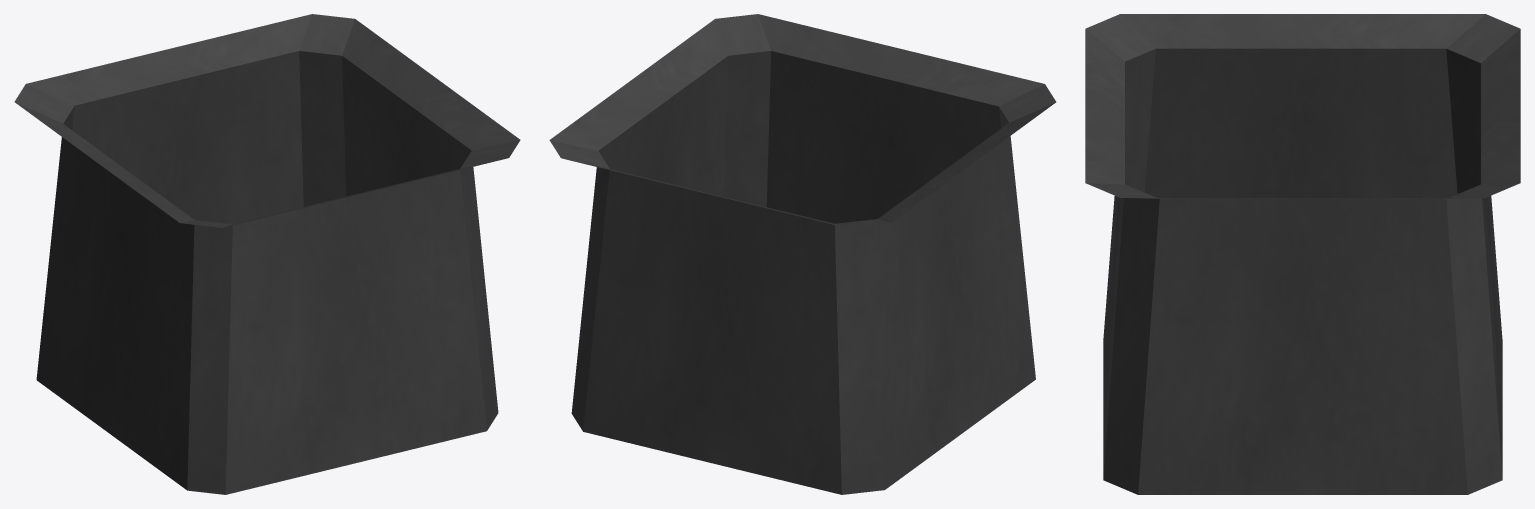
Rendered from bobble_accessory_hat.obj.
3 views of the same model, side by side, from view 1: azimuth 30°, elevation 25°; view 2: azimuth 150°, elevation 25°; view 3: azimuth 270°, elevation 25° (orthographic). The views are drawn at different scales.
Visible parts, largest first — view 1: Cube_Cube.001; view 2: Cube_Cube.001; view 3: Cube_Cube.001.
Boxes of the visible parts, <box> form: Cube_Cube.001: <box>14,14,520,494</box>; Cube_Cube.001: <box>549,14,1056,494</box>; Cube_Cube.001: <box>1085,14,1520,494</box>.
Bounding box in the file's own units: 11 × 8.5 × 11.
